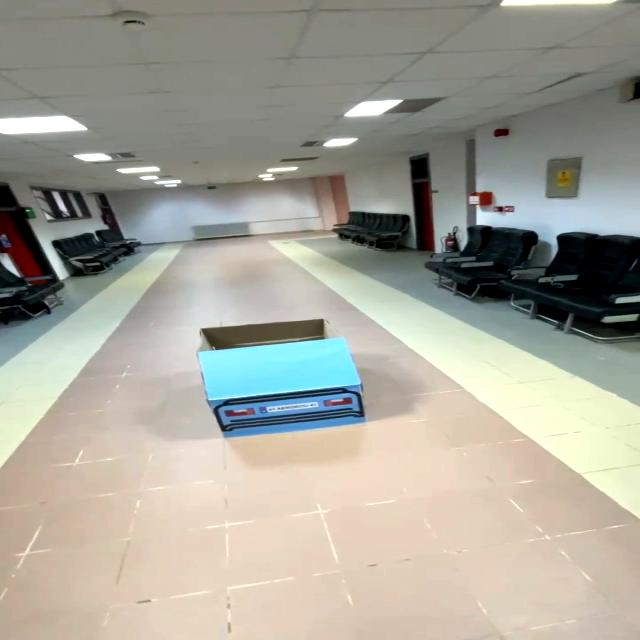blue_car: (164, 310, 396, 449)
